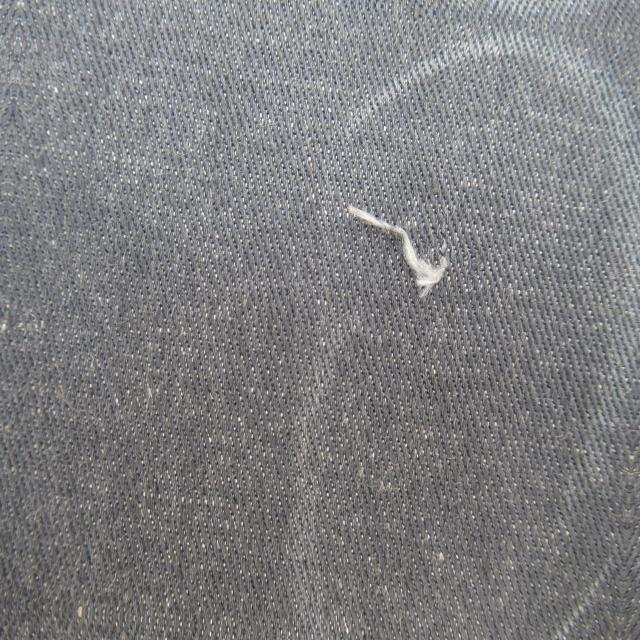selvet: (334, 175, 462, 337)
